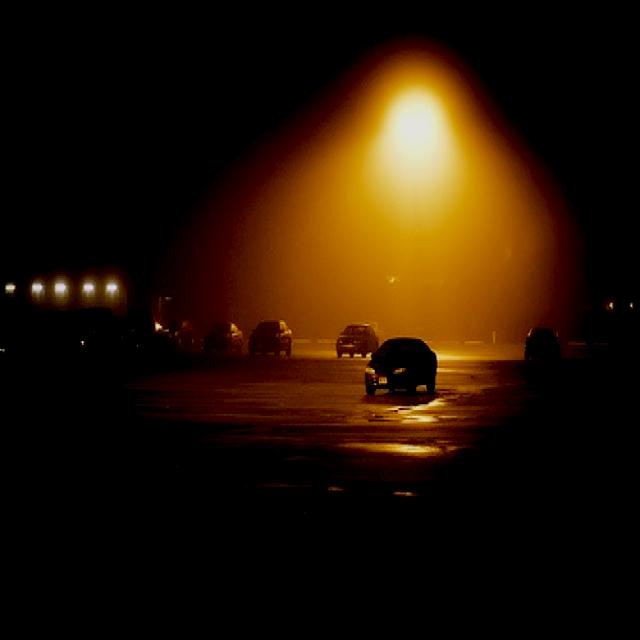Car: (361, 338, 437, 402), (518, 328, 568, 368), (252, 318, 292, 360)
